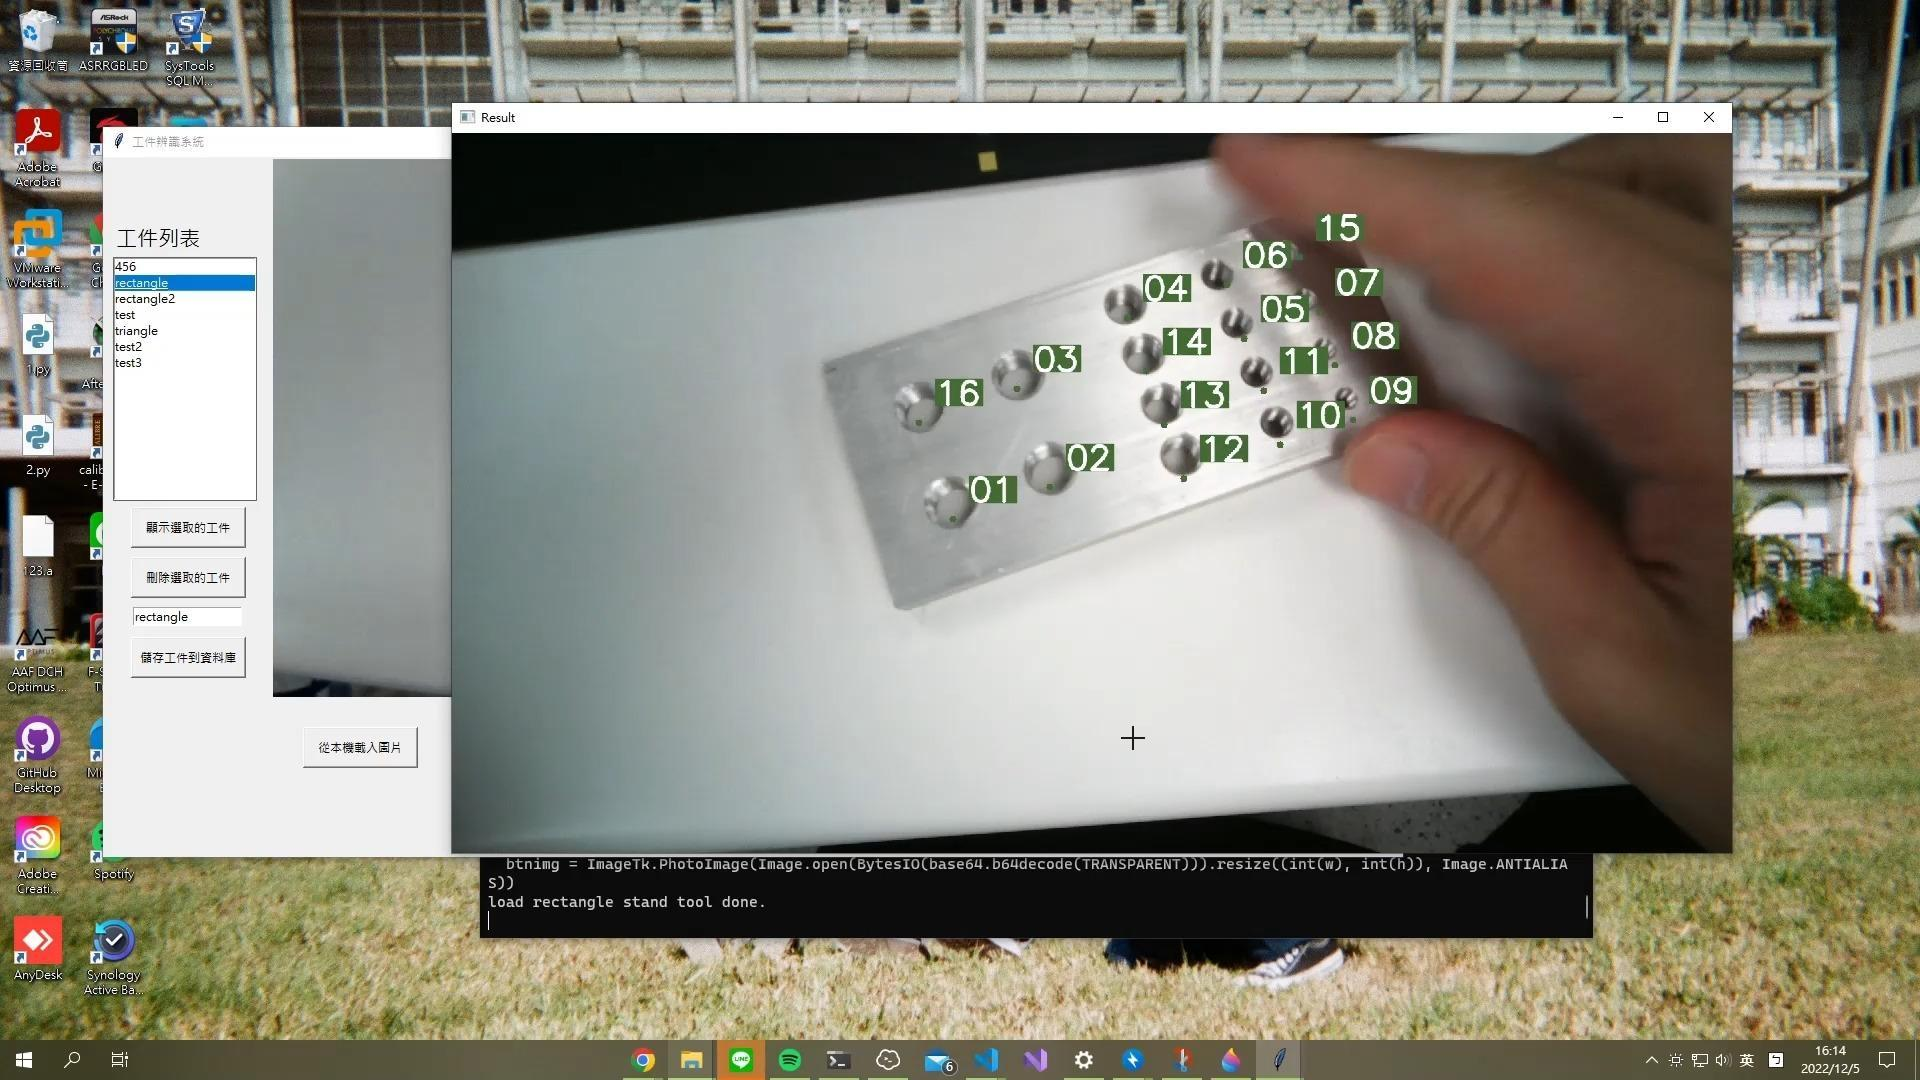hole: (989, 348, 1050, 404), (922, 473, 977, 531), (890, 378, 948, 434), (1022, 440, 1076, 498), (1154, 430, 1211, 483), (1139, 380, 1183, 425), (1122, 334, 1164, 376), (1102, 284, 1143, 322), (1201, 258, 1237, 295), (1259, 405, 1291, 444), (1221, 306, 1255, 342), (1240, 353, 1271, 390), (1335, 385, 1362, 415)
